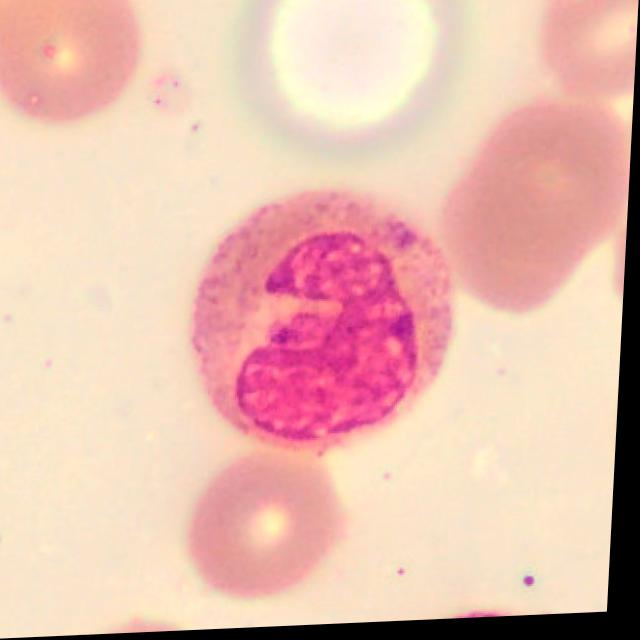Bastonete: (193, 195, 459, 458)
